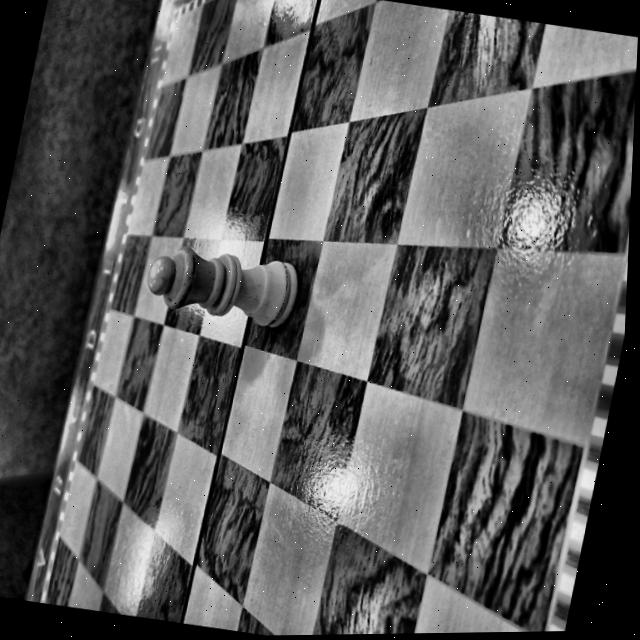white-queen: (148, 246, 298, 329)
